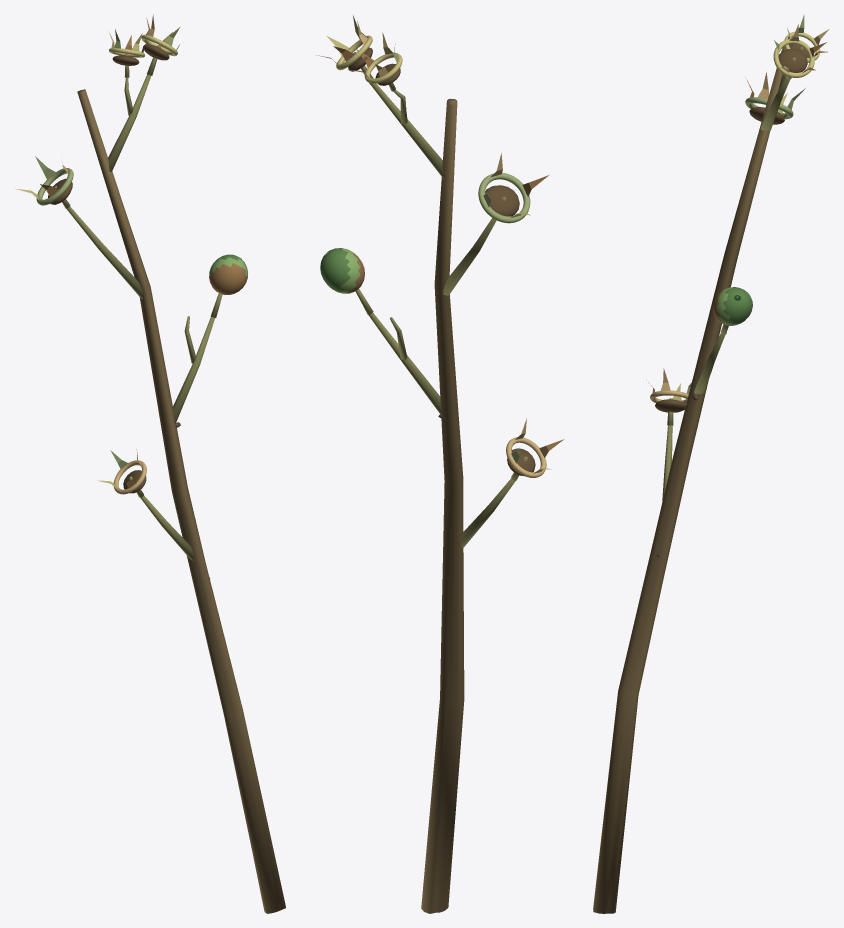
File: branch_variant_B_mixed_green_01.dae
The picture shows the model from 3 angles, left to right: view 1: azimuth 30°, elevation 25°; view 2: azimuth 150°, elevation 25°; view 3: azimuth 270°, elevation 25°; orthographic projection. The views are drawn at different scales.
Visible parts, largest first — view 1: branch_main_B_01, green_boll_B_01, socket_B_02, socket_B_01, branch_side_B_03, branch_side_B_02, socket_B_04, branch_side_B_04, socket_B_03, branch_side_B_01; view 2: branch_main_B_01, socket_B_02, green_boll_B_01, socket_B_01, socket_B_04, socket_B_03, branch_side_B_02, branch_side_B_04, branch_side_B_03, branch_side_B_01; view 3: branch_main_B_01, socket_B_04, green_boll_B_01, socket_B_02, socket_B_01, branch_side_B_02, socket_B_03.
Boxes of the visible parts, x1,y1,x2,y2 form: branch_main_B_01: (77,89,285,913); green_boll_B_01: (209,254,247,294); socket_B_02: (15,156,73,205); socket_B_01: (97,449,146,494); branch_side_B_03: (66,206,143,299); branch_side_B_02: (173,316,214,423); socket_B_04: (141,14,179,60); branch_side_B_04: (108,74,150,171); socket_B_03: (108,29,148,65); branch_side_B_01: (140,495,193,560); branch_main_B_01: (421,98,464,913); socket_B_02: (478,153,548,223); green_boll_B_01: (320,248,364,293); socket_B_01: (506,418,564,477); socket_B_04: (316,15,372,71); socket_B_03: (350,32,402,85); branch_side_B_02: (368,313,442,416); branch_side_B_04: (371,83,445,179); branch_side_B_03: (443,218,496,295); branch_side_B_01: (461,478,515,547); branch_main_B_01: (593,46,785,913); socket_B_04: (773,24,826,77); green_boll_B_01: (712,287,752,325); socket_B_02: (745,72,805,124); socket_B_01: (646,368,691,412); branch_side_B_02: (694,333,725,394); socket_B_03: (784,14,829,62).
Size of the model in its own units: 0.1819 by 0.1738 by 0.7082.
